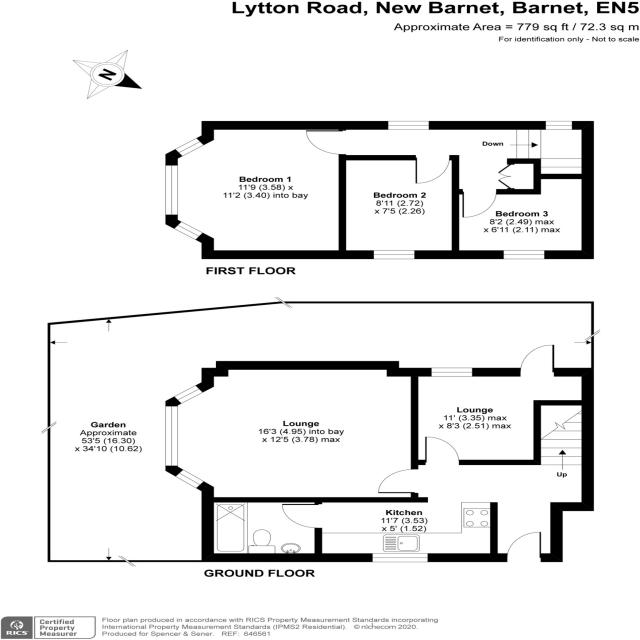DOOR: (506, 531, 543, 563), (519, 344, 556, 376), (280, 503, 322, 530), (423, 435, 460, 465), (377, 468, 419, 494), (461, 189, 498, 218), (305, 129, 346, 155), (414, 155, 450, 184)
ROOM: (165, 361, 419, 503), (165, 121, 347, 259), (280, 497, 498, 562), (338, 155, 460, 259), (451, 174, 594, 259)
WINDOW: (164, 405, 179, 467), (164, 165, 179, 215), (172, 384, 205, 405), (172, 220, 205, 241), (174, 468, 206, 489), (173, 137, 205, 157), (372, 553, 429, 562), (430, 367, 474, 377), (372, 250, 416, 260), (502, 250, 545, 260), (387, 120, 430, 130), (545, 121, 573, 130)
